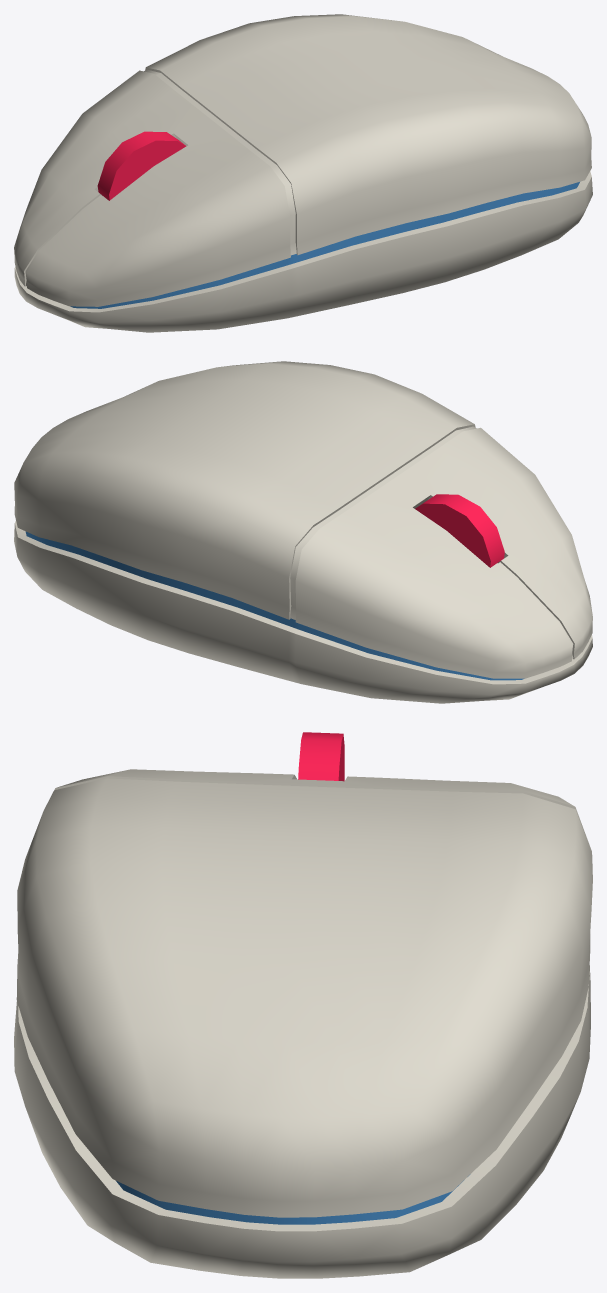
Rendered from mouse.fbx.
3 renders of one model, top to bottom at view 1: azimuth 30°, elevation 25°; view 2: azimuth 150°, elevation 25°; view 3: azimuth 270°, elevation 25°, orthographic. The views are drawn at different scales.
Parts seen in each view (by area): view 1: mouse; view 2: mouse; view 3: mouse.
Part boxes in pixels (left/top/right/bottom): mouse: left=14, top=14, right=592, bottom=332; mouse: left=14, top=361, right=592, bottom=703; mouse: left=14, top=732, right=592, bottom=1278.
Bounding box in the file's own units: 5.75 × 1.8 × 3.3.
